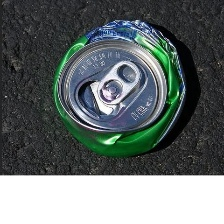can: (50, 16, 192, 160)
